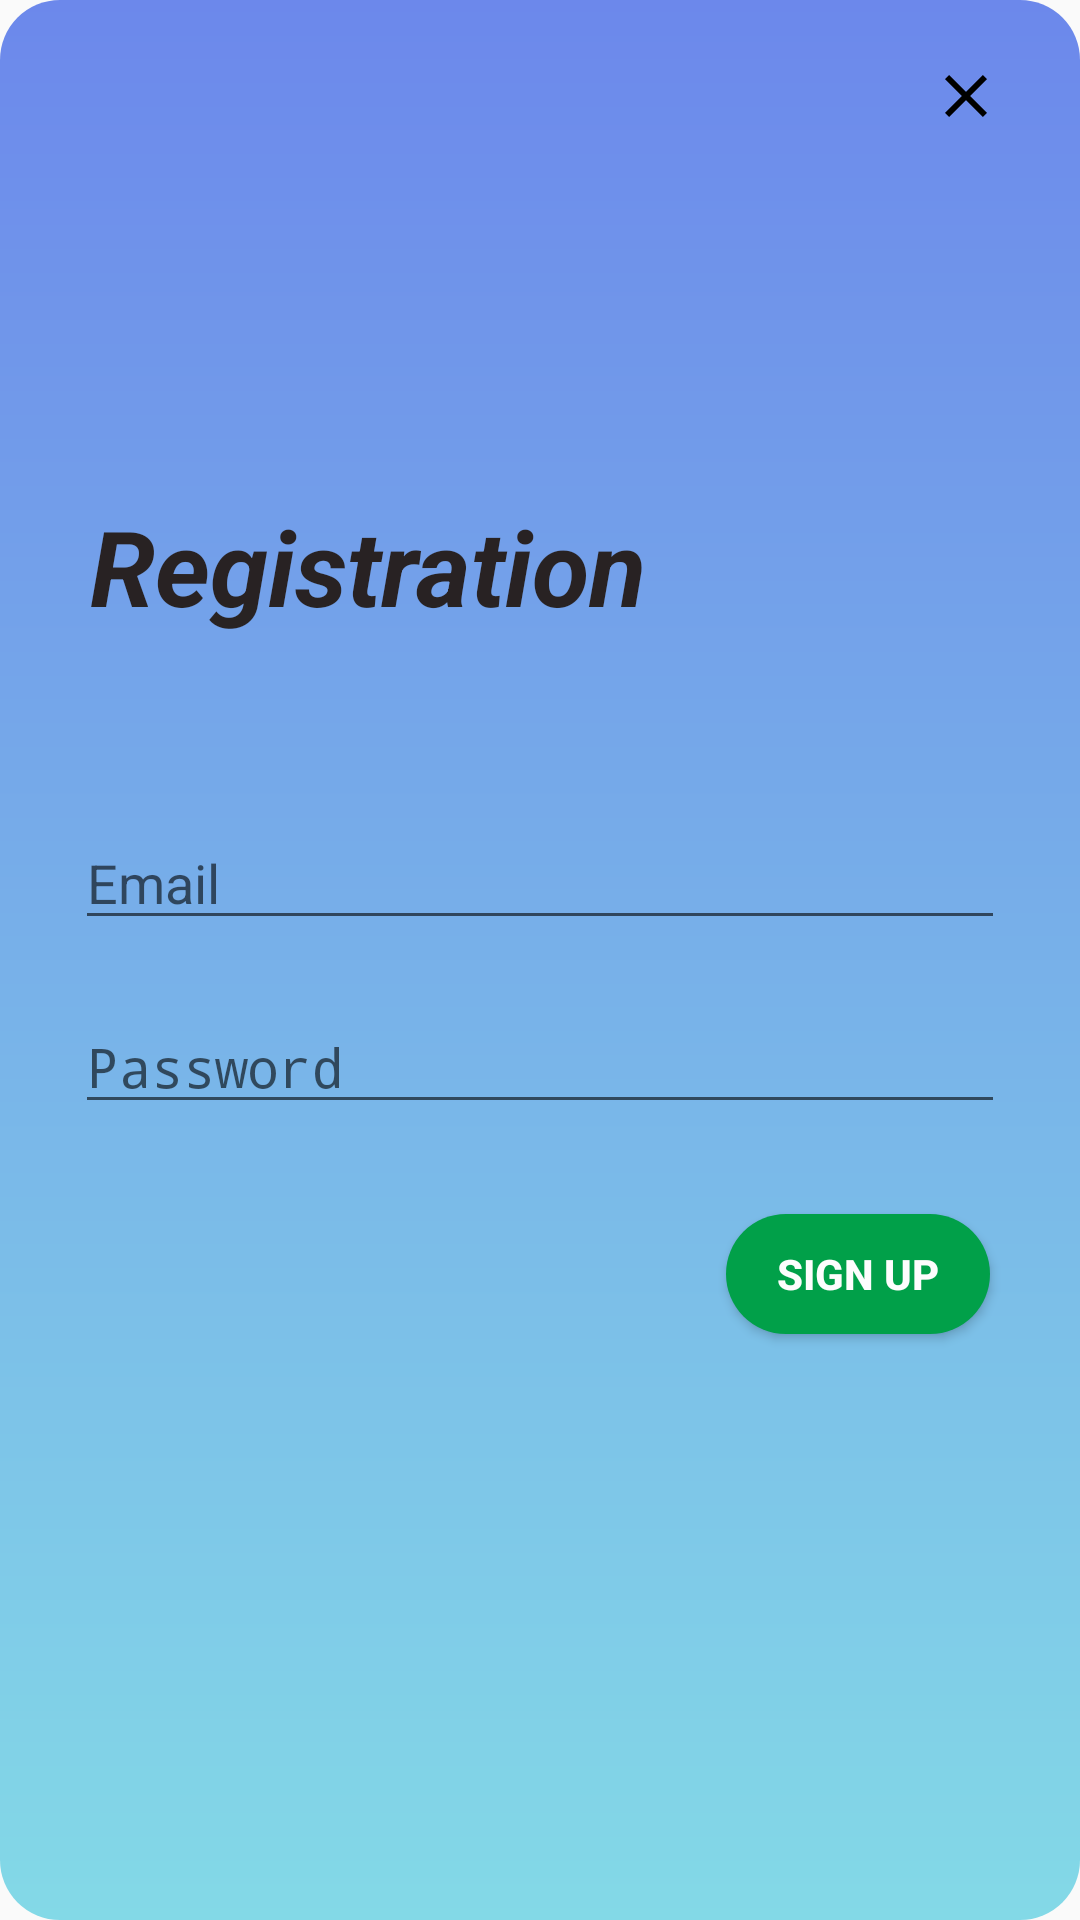

Named icons in this screenshot (1080px×1920px) and their centers, point (x, y):
close: point (966, 96)
